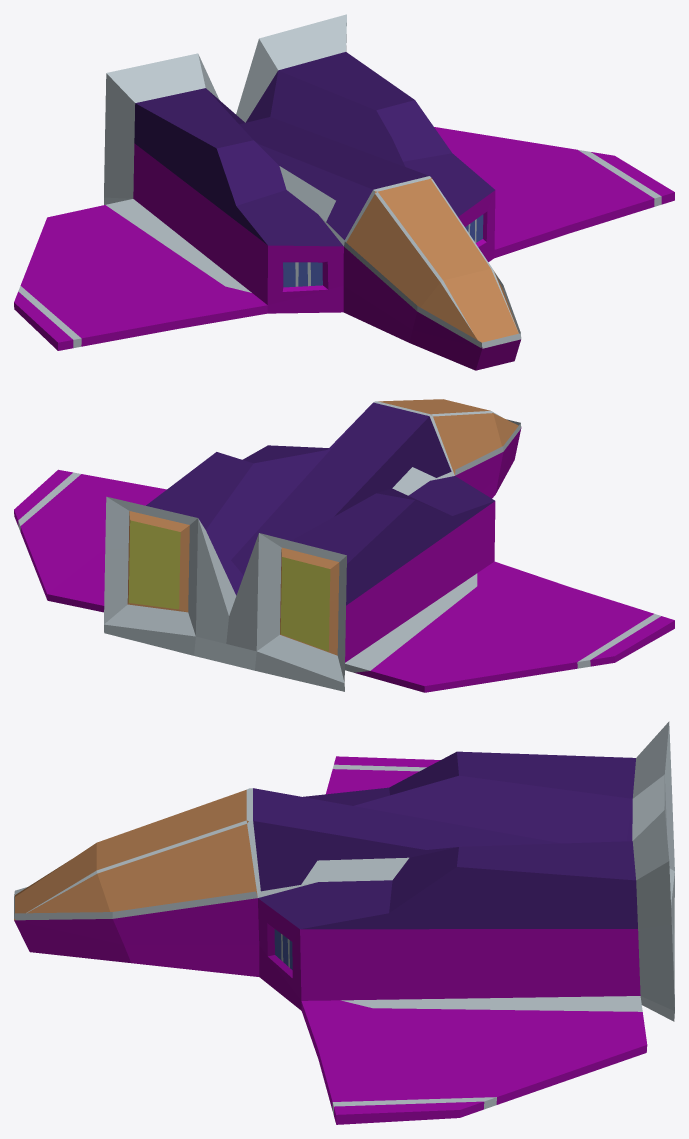
Rendered from SpaceShip.glb.
3 views of the same model, one above another, from view 1: azimuth 30°, elevation 25°; view 2: azimuth 150°, elevation 25°; view 3: azimuth 270°, elevation 25° (orthographic). The views are drawn at different scales.
Parts seen in each view (by area): view 1: Cube; view 2: Cube; view 3: Cube.
Boxes of the visible parts, x1,y1,x2,y2 form: Cube: (14,14,674,370); Cube: (14,399,674,692); Cube: (14,721,674,1124).
Size of the model in its own units: 11.71 by 2.46 by 9.12.
